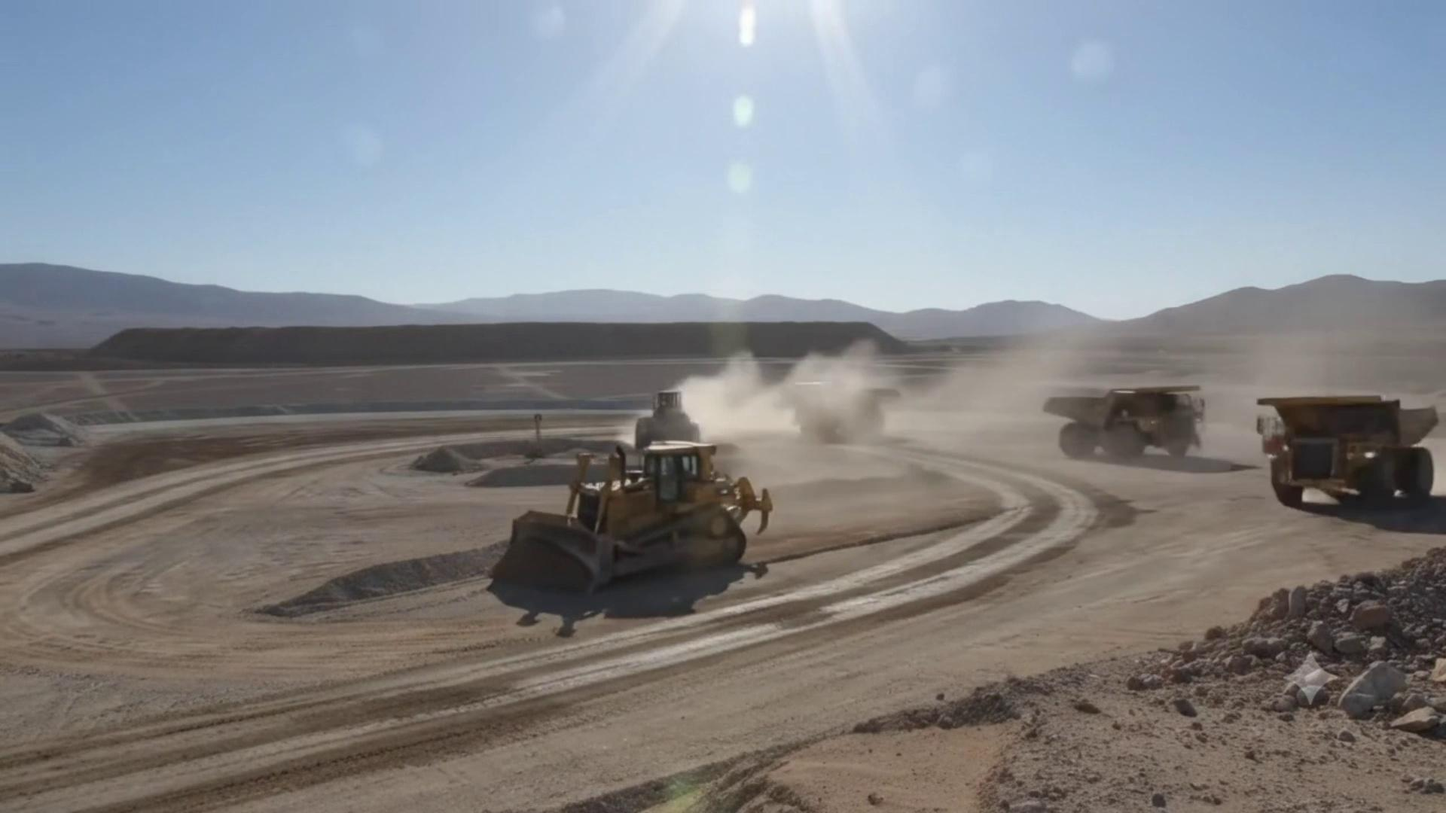CAEX: (1255, 395, 1441, 509), (1041, 383, 1206, 458)
bulldozer: (491, 441, 772, 592)
